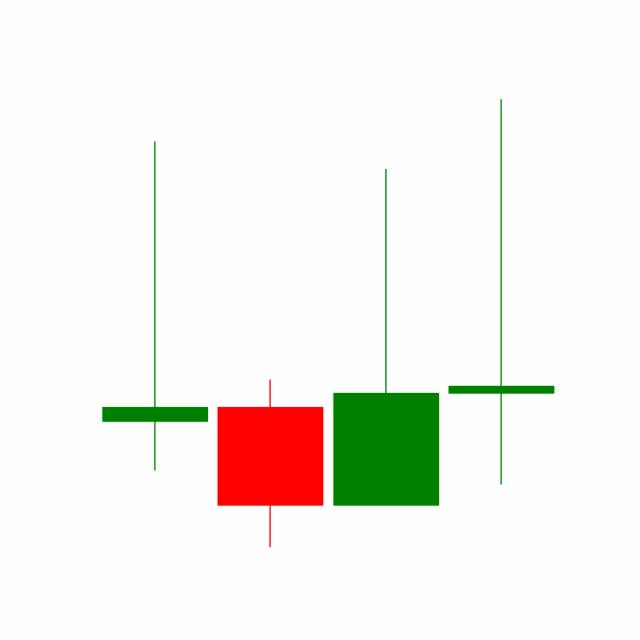Spinning Top: (443, 95, 559, 489)
